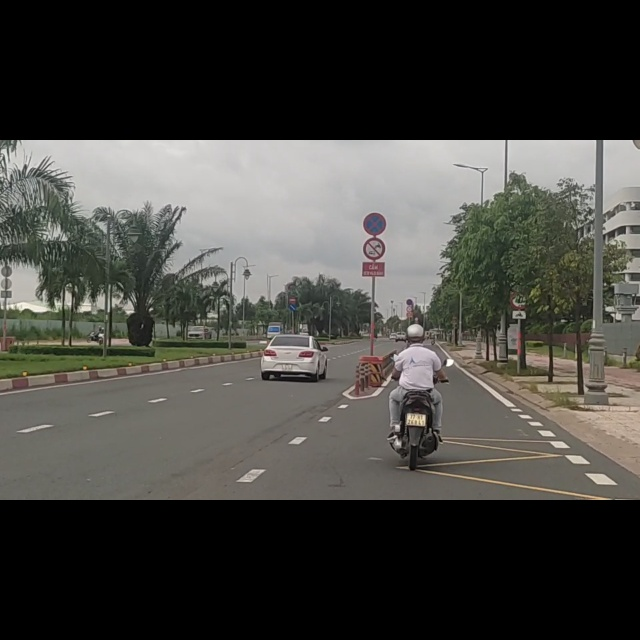bien_cam: (361, 124, 387, 169), (361, 171, 387, 215)
